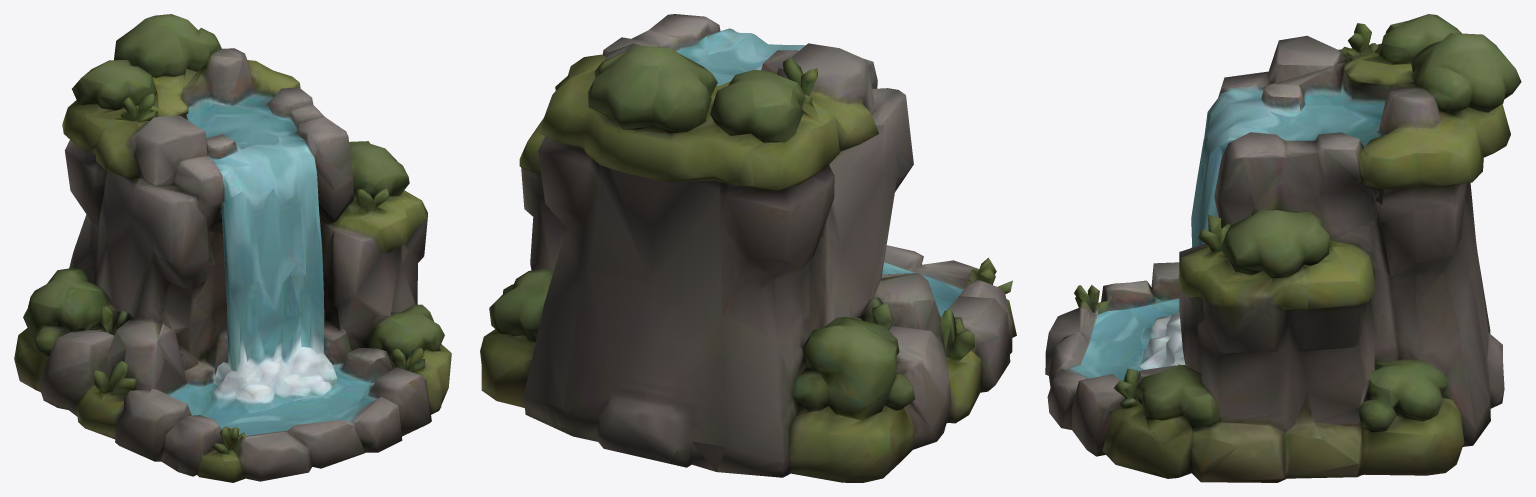
The model's file is waterfall.glb.
The picture shows the model from 3 angles, left to right: view 1: azimuth 30°, elevation 25°; view 2: azimuth 150°, elevation 25°; view 3: azimuth 270°, elevation 25°; orthographic projection. The views are drawn at different scales.
Visible parts, largest first — view 1: tripo_node_4edfb61c-33ec-4f40-9716-8668ee2cfb37; view 2: tripo_node_4edfb61c-33ec-4f40-9716-8668ee2cfb37; view 3: tripo_node_4edfb61c-33ec-4f40-9716-8668ee2cfb37.
Part boxes in pixels (box(x1,y1,x2,y2)): tripo_node_4edfb61c-33ec-4f40-9716-8668ee2cfb37: box(14, 14, 451, 482); tripo_node_4edfb61c-33ec-4f40-9716-8668ee2cfb37: box(480, 14, 1016, 482); tripo_node_4edfb61c-33ec-4f40-9716-8668ee2cfb37: box(1045, 14, 1521, 482).
Size of the model in its own units: 0.9231 by 0.8239 by 0.9798.
Materials: 1 (1 with a texture image).
